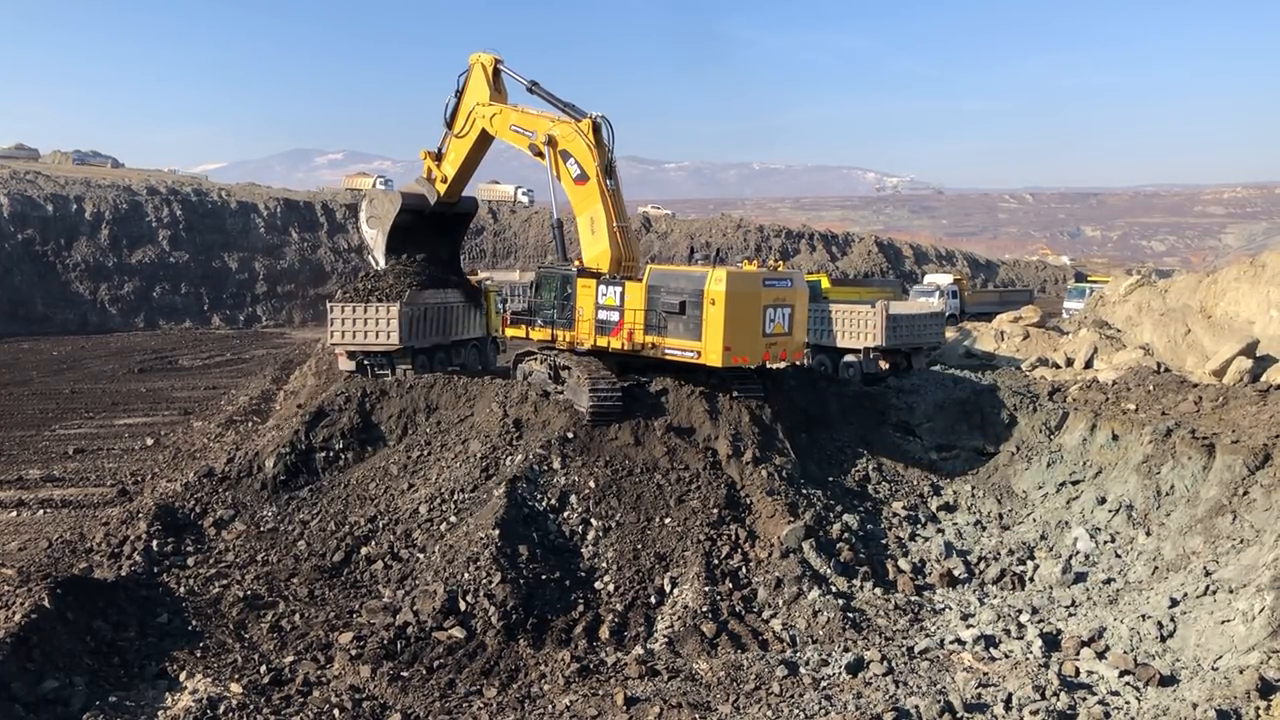full: (357, 181, 481, 271)
